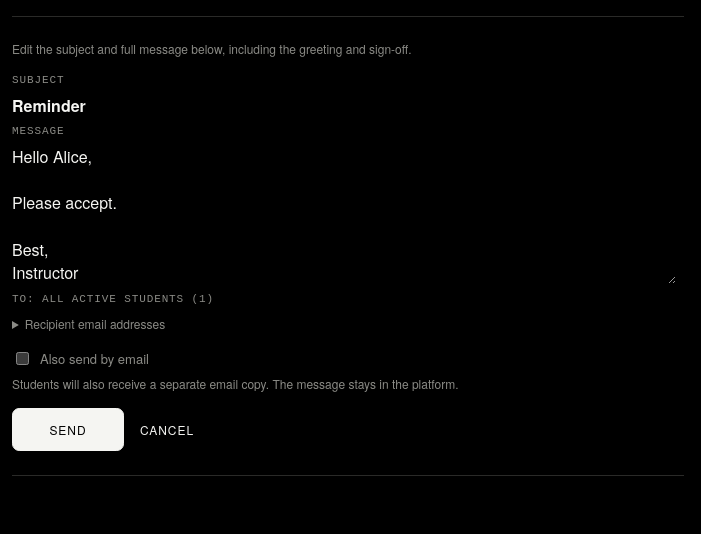
shows recipient emails to the instructor for all_students
Click the heading "Recipient email addresses".
click(95, 323)  # box [25, 315, 165, 332]
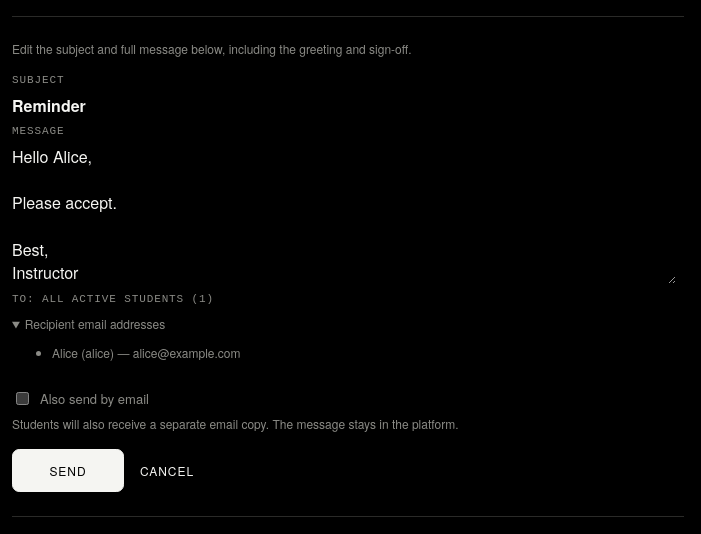
Check: the list item "Alice (alice) — alice@example.com" is shown, box [52, 344, 240, 361]
